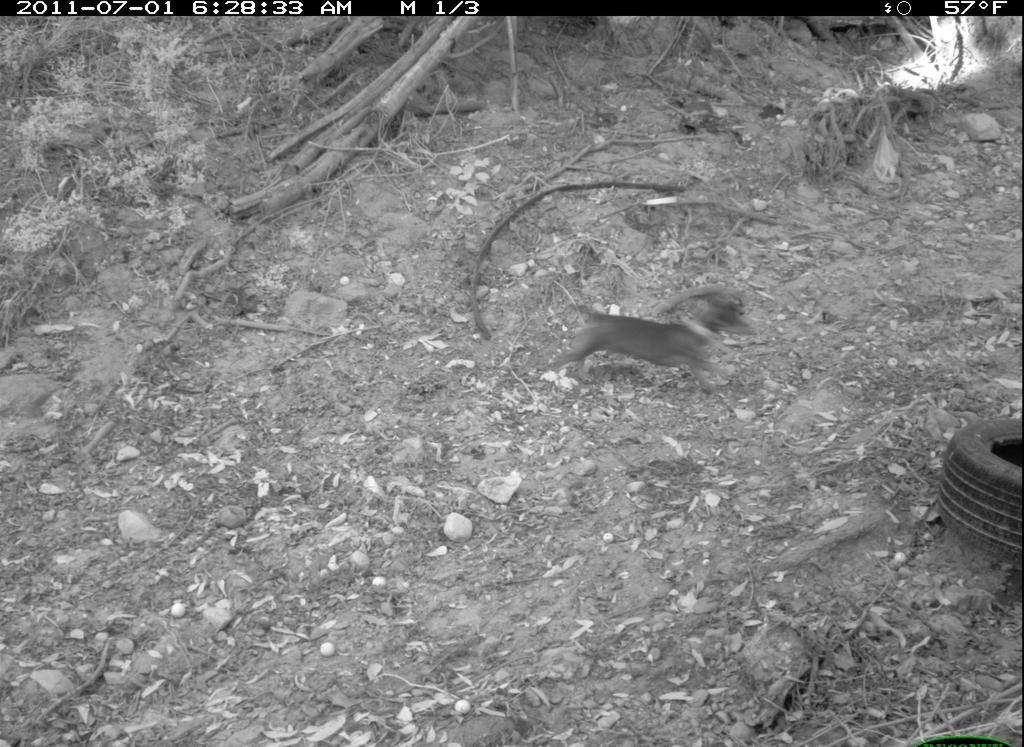dog: (546, 286, 753, 388)
